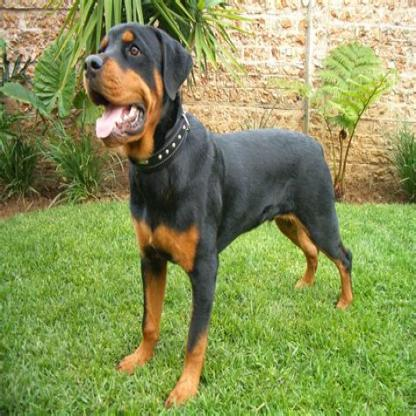dog: (83, 22, 357, 407)
